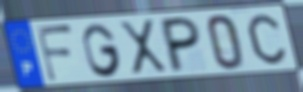0: (205, 12, 246, 72)
C: (245, 12, 288, 66)
F: (34, 24, 76, 84)
G: (80, 22, 124, 79)
P: (160, 15, 202, 75)
X: (117, 18, 170, 78)
